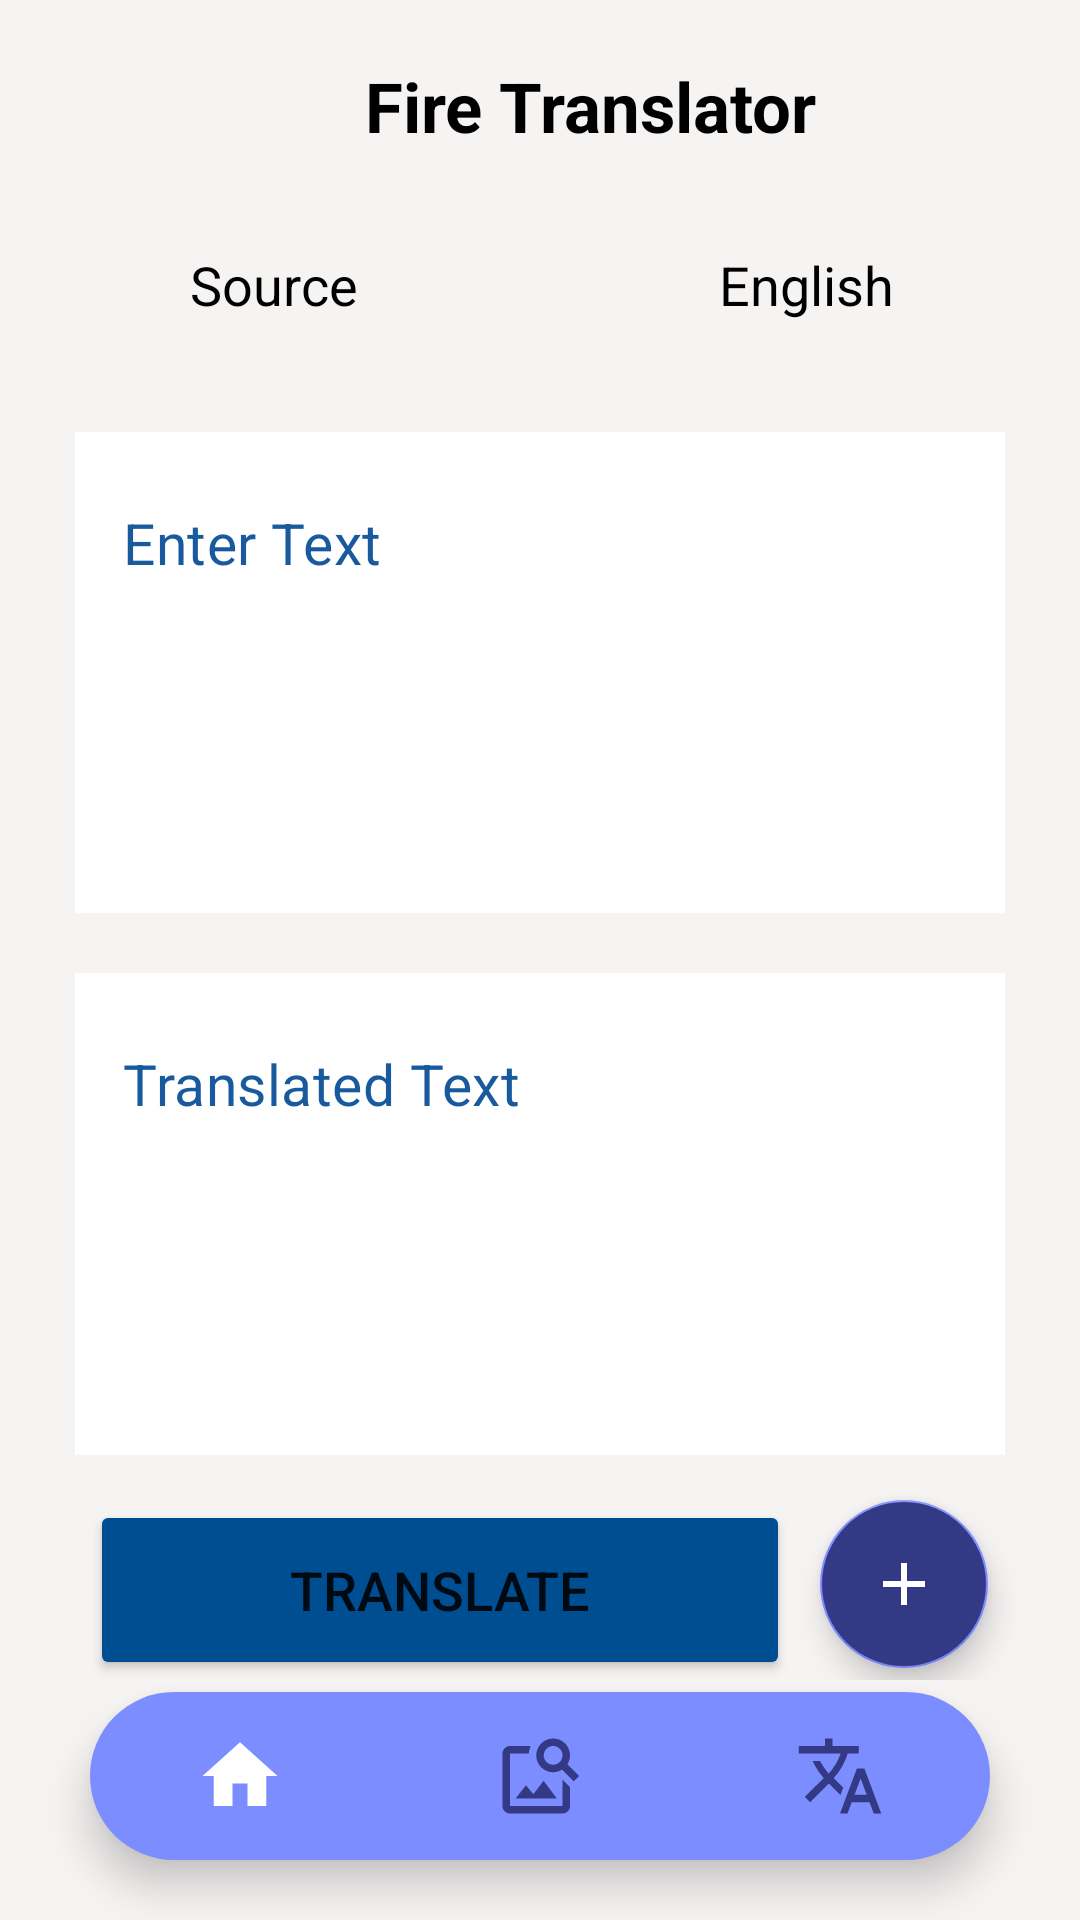

Named icons in this screenshot (1080 x 1920) and their centers, point (x, y):
add: point (904, 1584)
